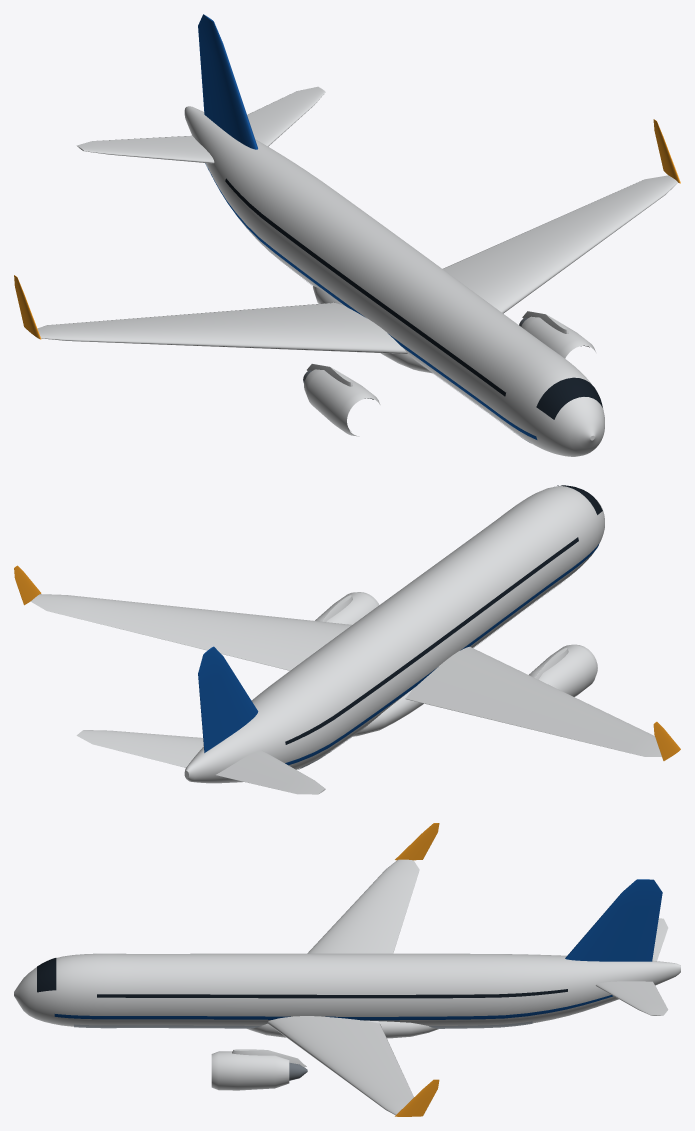
File: narrowbody-airliner.glb
The picture shows the model from 3 angles, top to bottom: view 1: azimuth 30°, elevation 25°; view 2: azimuth 150°, elevation 25°; view 3: azimuth 270°, elevation 25°; orthographic projection. The views are drawn at different scales.
Parts seen in each view (by area): view 1: Fuselage, Wings, Livery, Engine_Nacelles, Window_Band, Livery_Accent; view 2: Fuselage, Wings, Livery, Engine_Nacelles, Window_Band, Livery_Accent; view 3: Fuselage, Wings, Livery, Engine_Nacelles, Window_Band, Livery_Accent, Belly.
Boxes of the visible parts, bbox=[...] form: Fuselage: bbox=[184, 106, 604, 456]; Wings: bbox=[37, 86, 677, 386]; Livery: bbox=[198, 14, 537, 439]; Engine_Nacelles: bbox=[304, 316, 595, 436]; Window_Band: bbox=[225, 178, 602, 419]; Livery_Accent: bbox=[14, 119, 680, 339]; Fuselage: bbox=[184, 486, 604, 783]; Wings: bbox=[31, 594, 661, 794]; Livery: bbox=[198, 543, 599, 765]; Engine_Nacelles: bbox=[315, 592, 597, 696]; Window_Band: bbox=[285, 485, 602, 744]; Livery_Accent: bbox=[14, 565, 680, 760]; Fuselage: bbox=[14, 953, 680, 1038]; Wings: bbox=[232, 859, 668, 1115]; Livery: bbox=[54, 879, 662, 1020]; Engine_Nacelles: bbox=[211, 1051, 289, 1090]; Window_Band: bbox=[37, 958, 567, 998]; Livery_Accent: bbox=[395, 823, 439, 1116]; Belly: bbox=[74, 1021, 532, 1028].
Size of the model in its own units: 34.54 by 10.37 by 37.8.
